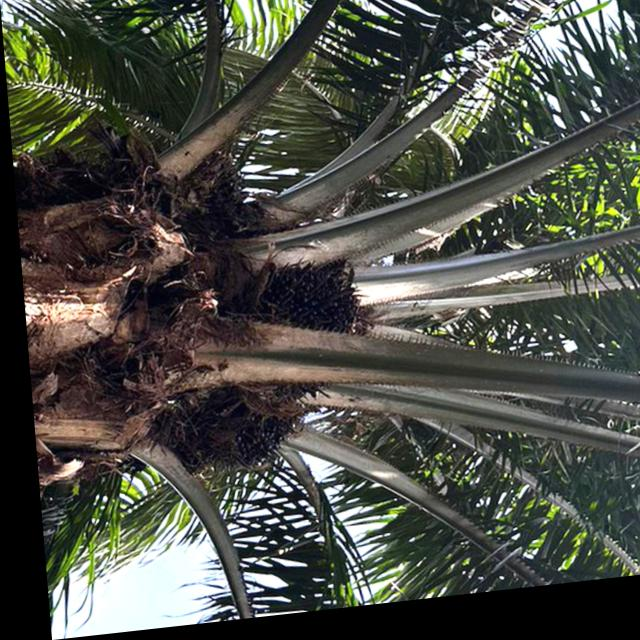unripe: (124, 243, 375, 494), (139, 125, 266, 267)
